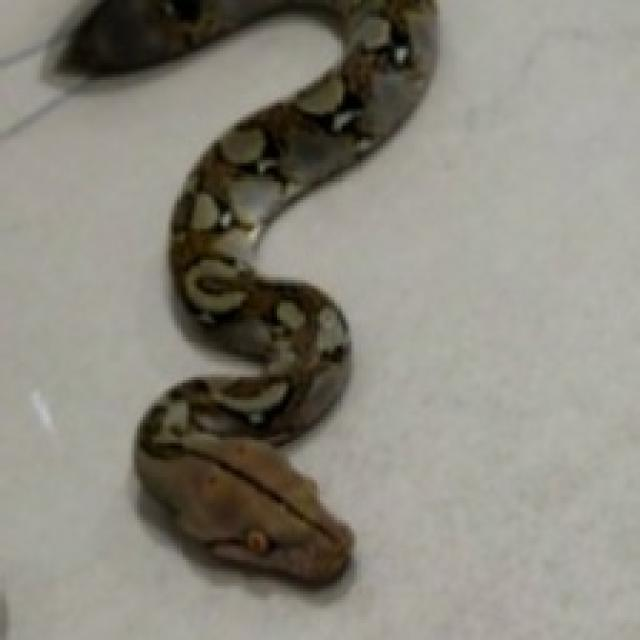reticulated python: (63, 0, 434, 580)
